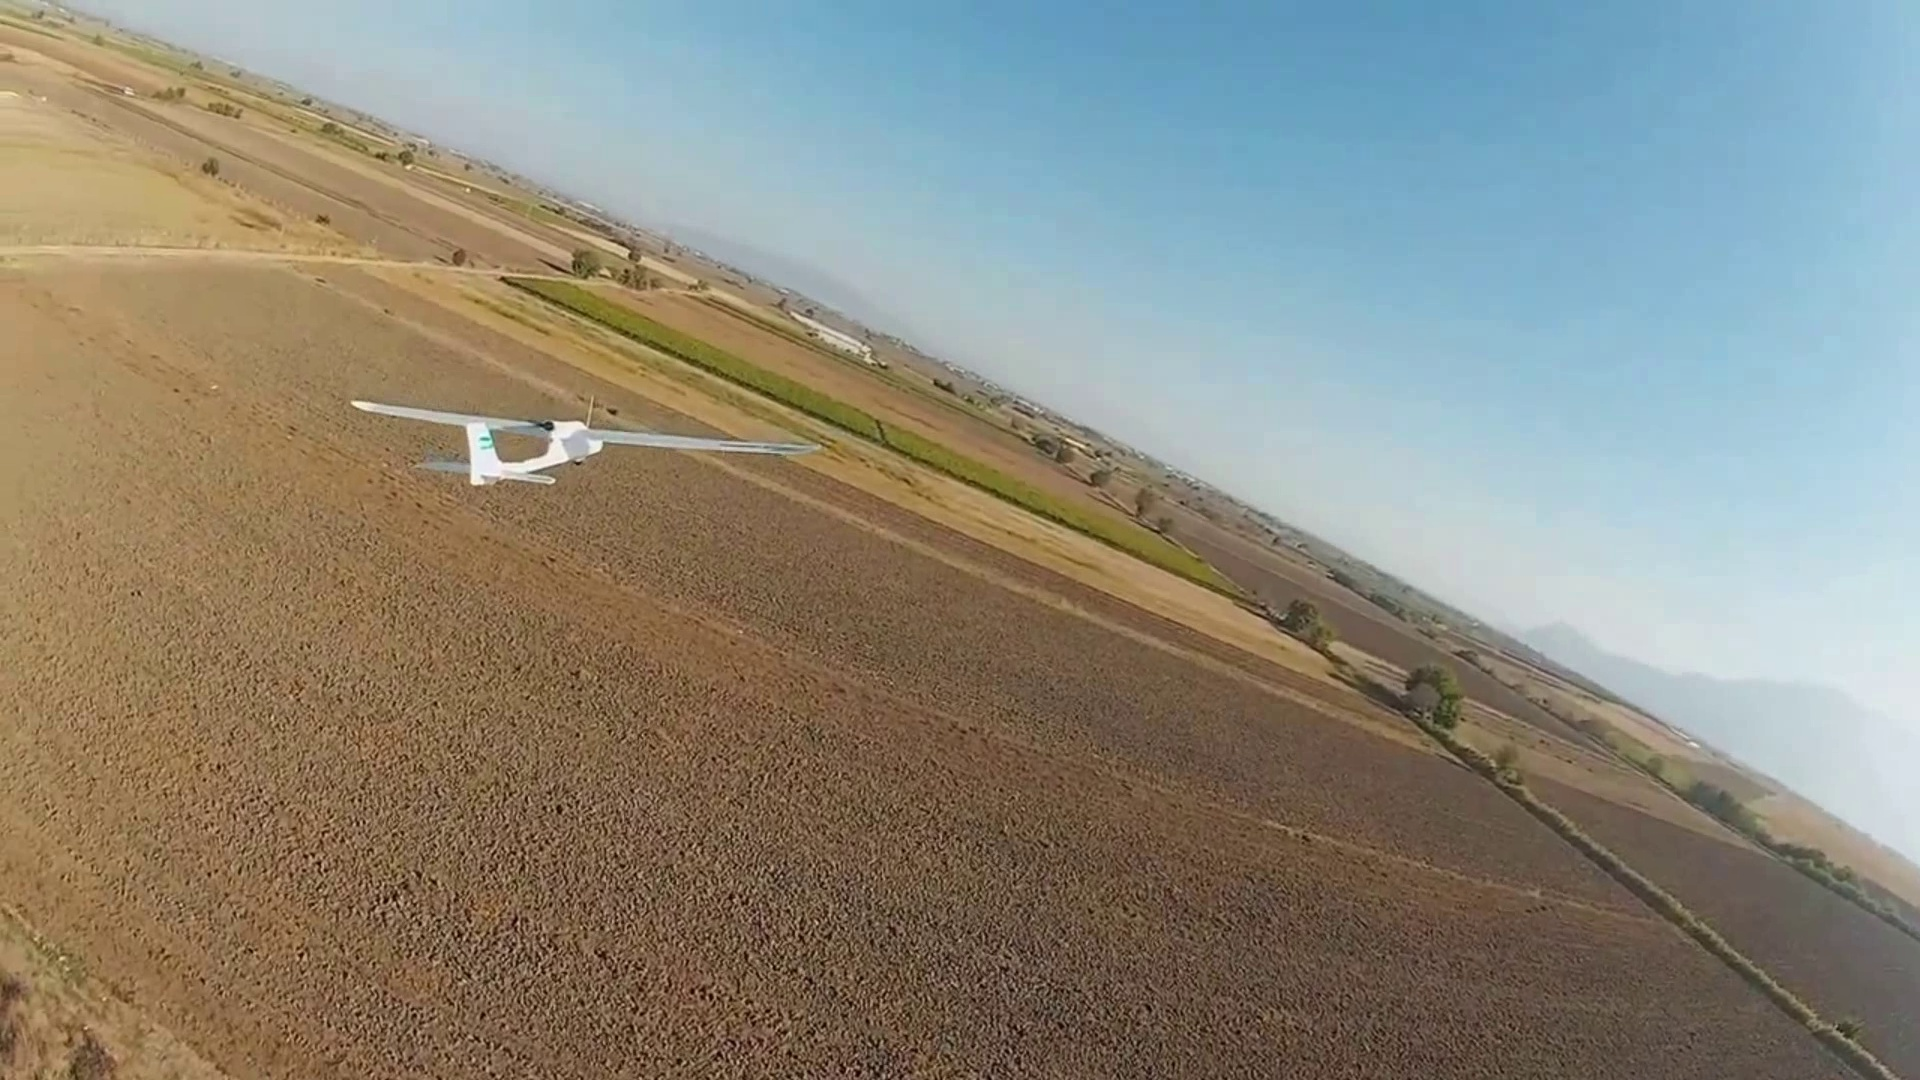airplane: (352, 396, 611, 483)
